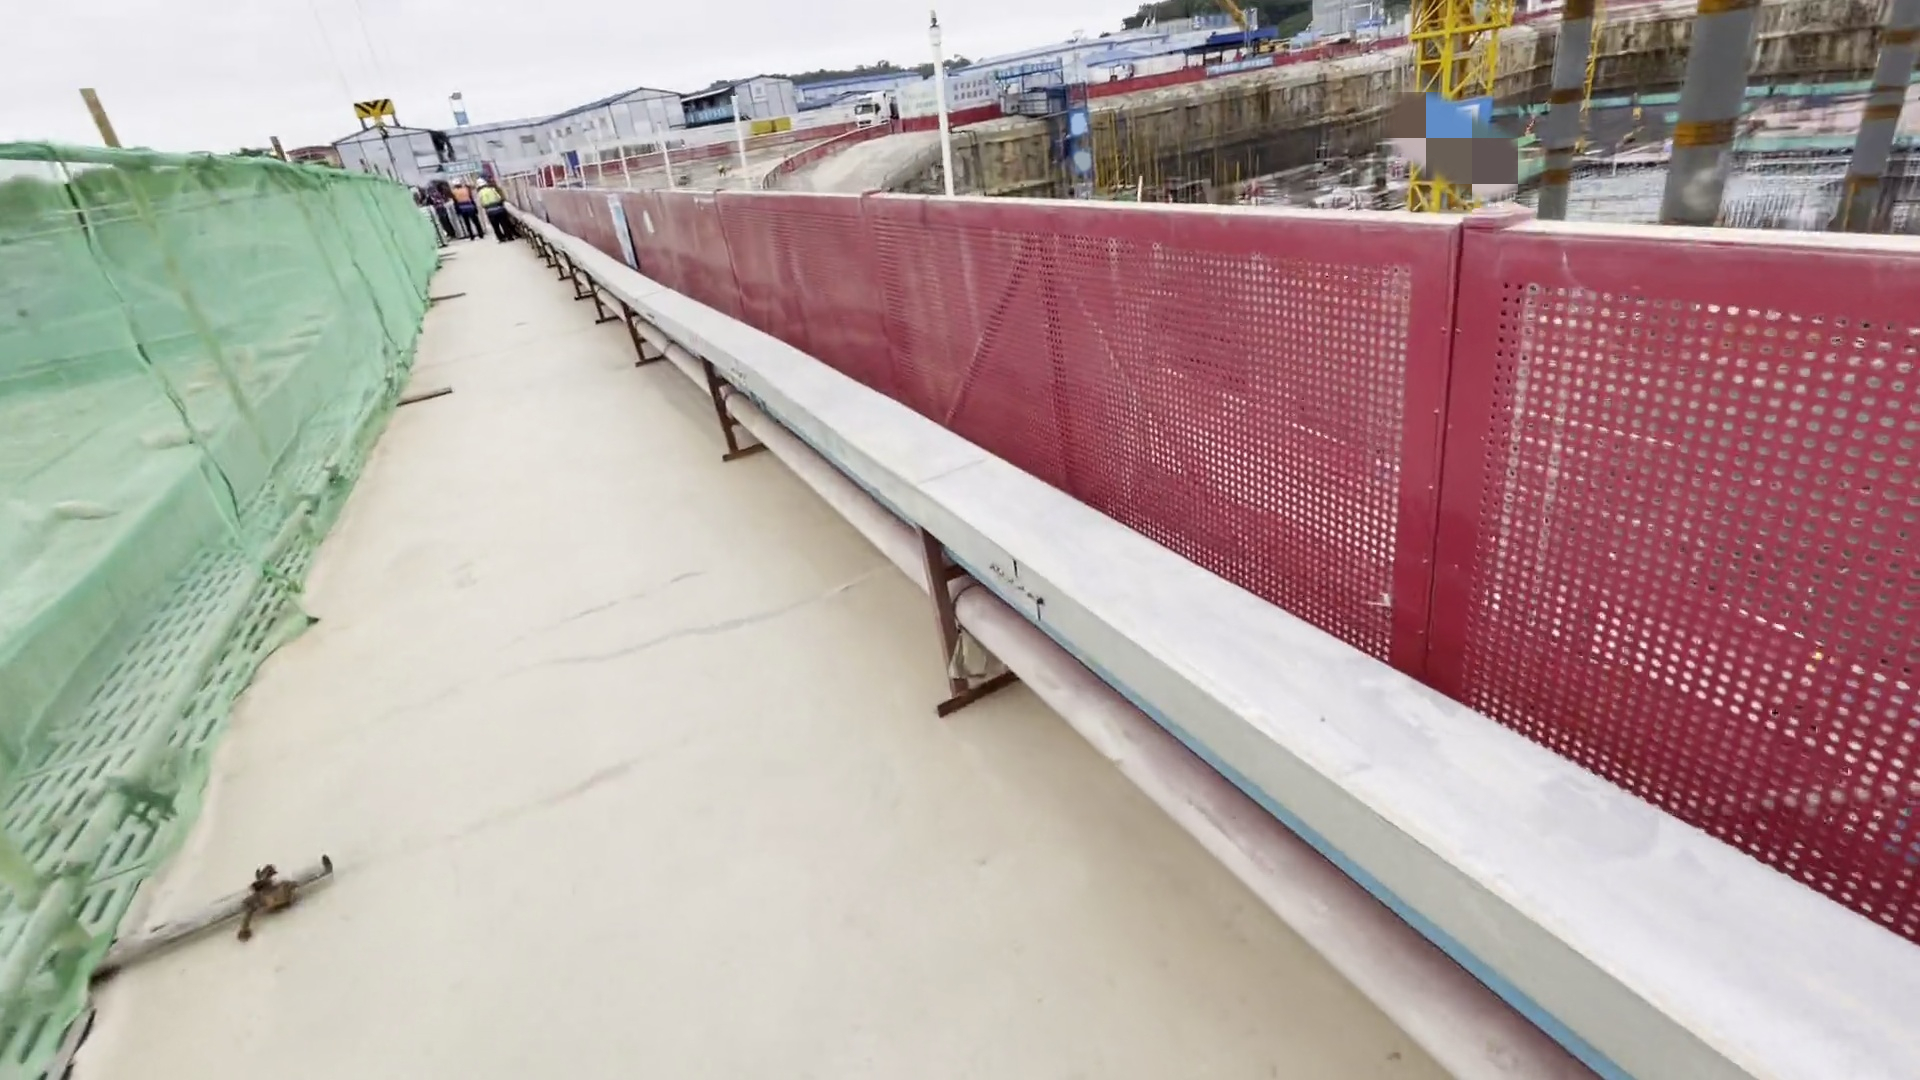fence: (483, 157, 1823, 841)
helmet: (451, 177, 467, 191), (474, 176, 487, 189)
hook: (338, 89, 399, 152)
person: (467, 170, 521, 257), (438, 168, 491, 237)
vest: (456, 189, 491, 228), (478, 189, 507, 221)
